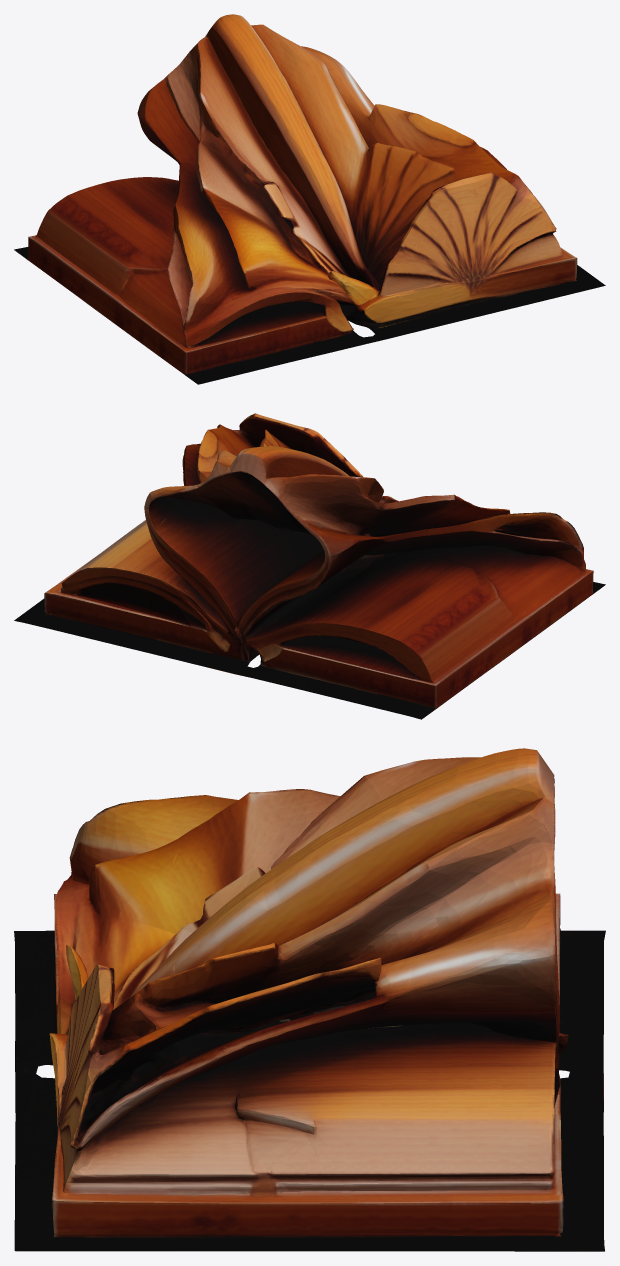
The model's file is wooden-mini-sculpture-art-deco.jpeg.glb.
3 views of the same model, one above another, from view 1: azimuth 30°, elevation 25°; view 2: azimuth 150°, elevation 25°; view 3: azimuth 270°, elevation 25° (orthographic). The views are drawn at different scales.
Visible parts, largest first — view 1: world; view 2: world; view 3: world.
Part boxes in pixels (x1,y1,x2,y2): world: (14,14,605,384); world: (14,413,605,719); world: (14,748,605,1251).
Size of the model in its own units: 1 by 0.4797 by 0.7837.
1 material, 1 textured.
